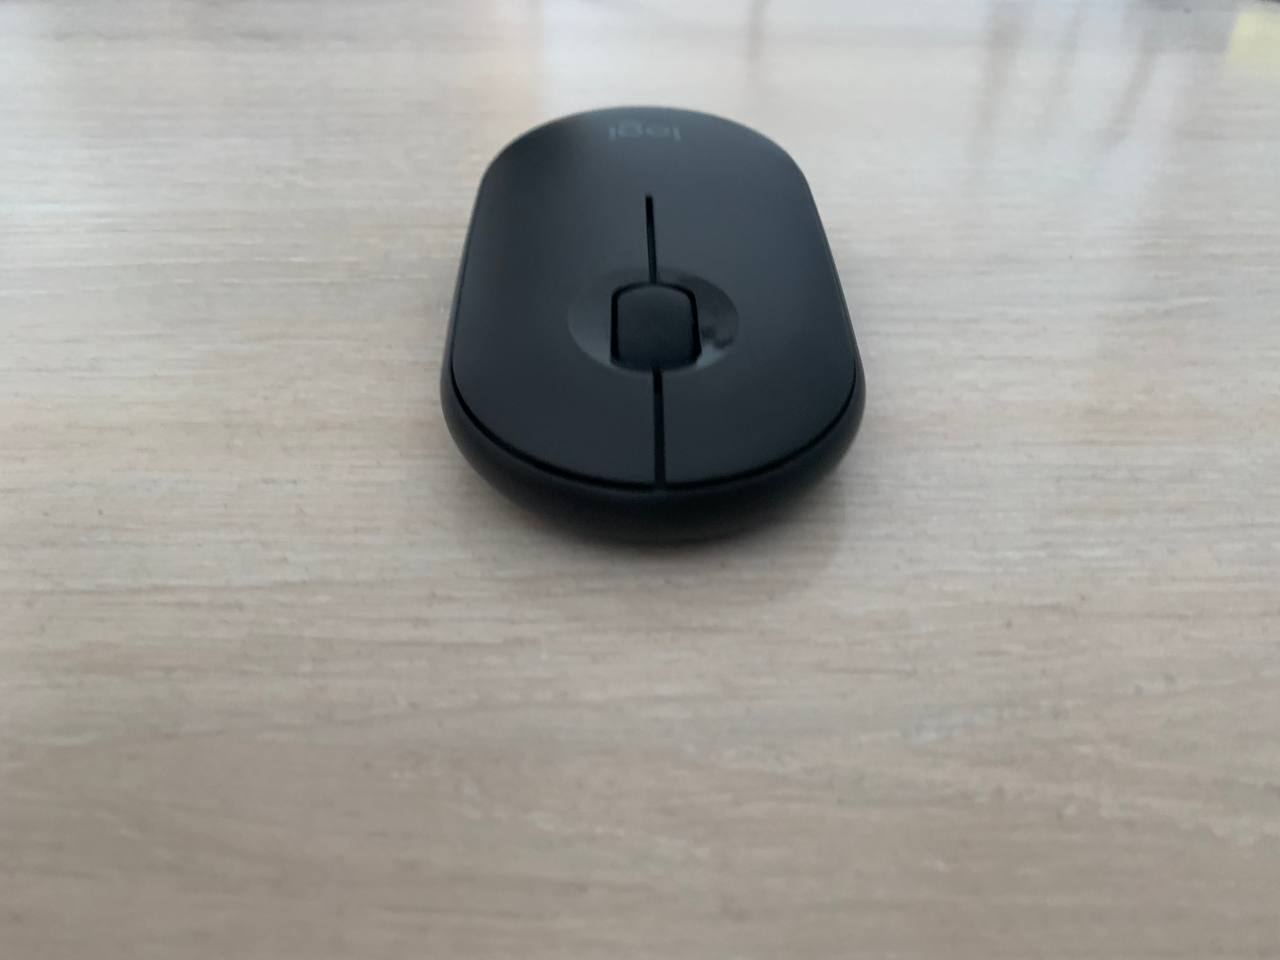mouse: (441, 107, 865, 543)
